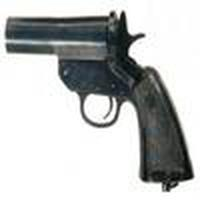gun: (1, 8, 200, 198)
